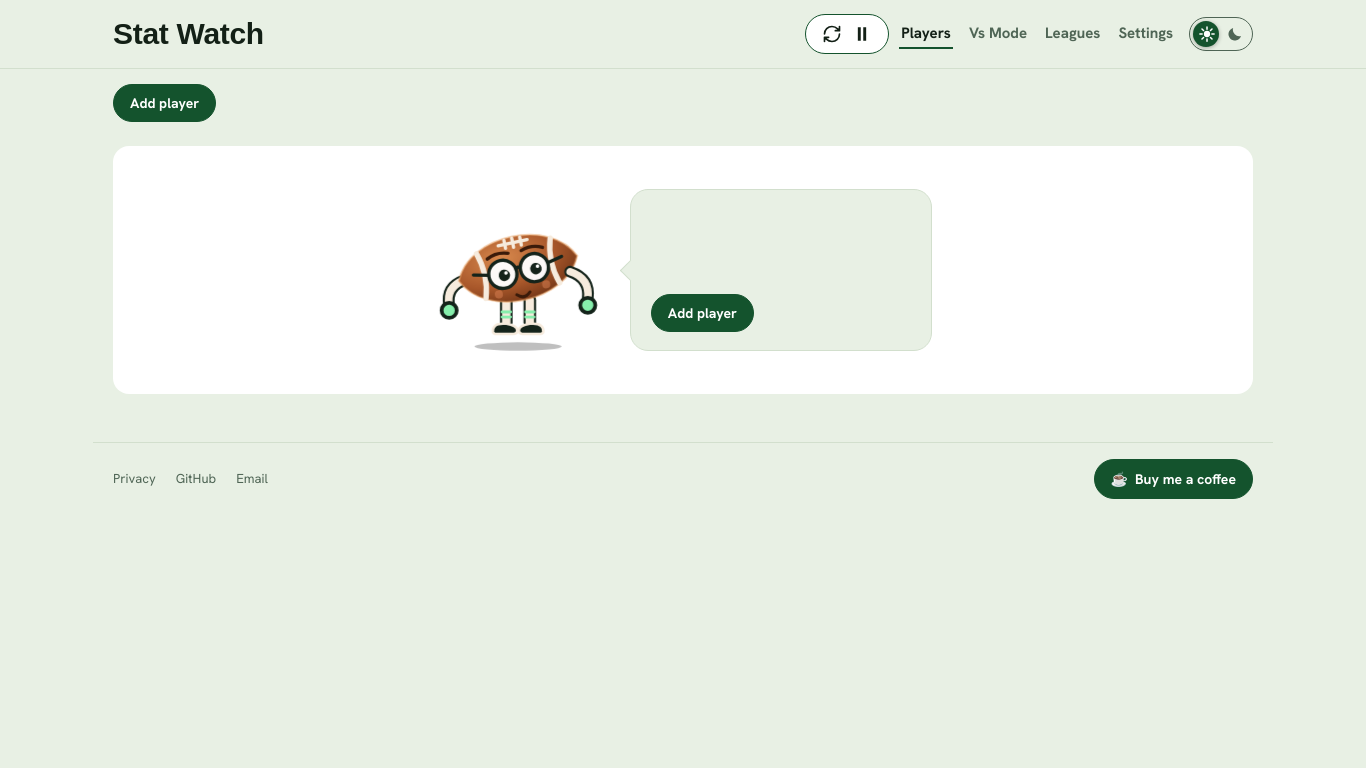
it: add dialog › shows team defenses with an accurate message when only player search fails
This screenshot has width=1366, height=768.
Click the 1st button "Add player". click: click(165, 103)
box: [113,84,216,122]
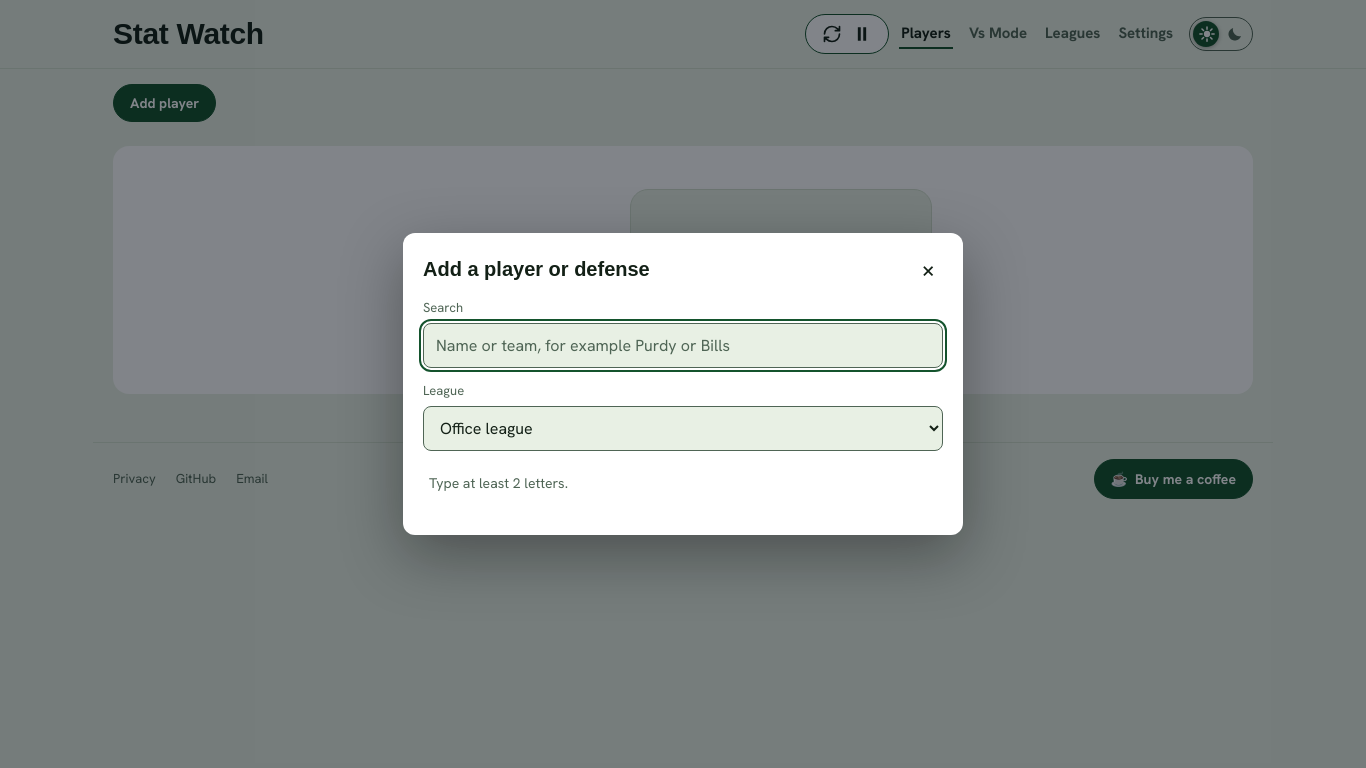
Type "bills" into the search field labelled "Search". click: (683, 345)
box: [423,323,943,368]
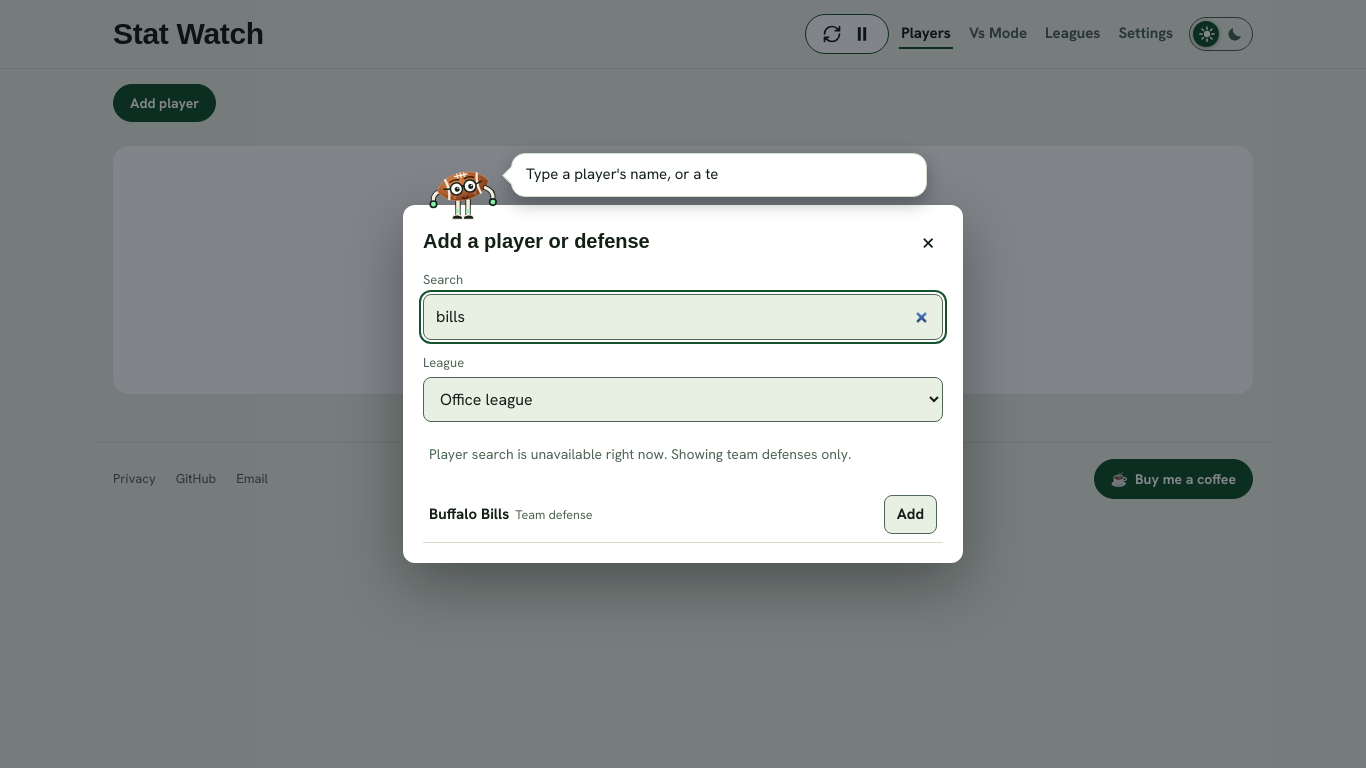
Now the button with aria-label "Add Buffalo Bills, team defense" is shown, box [884,495,937,534]
Now the text "Player search is unavailable right now. Showing team defenses only." is shown, box [429,445,851,463]
